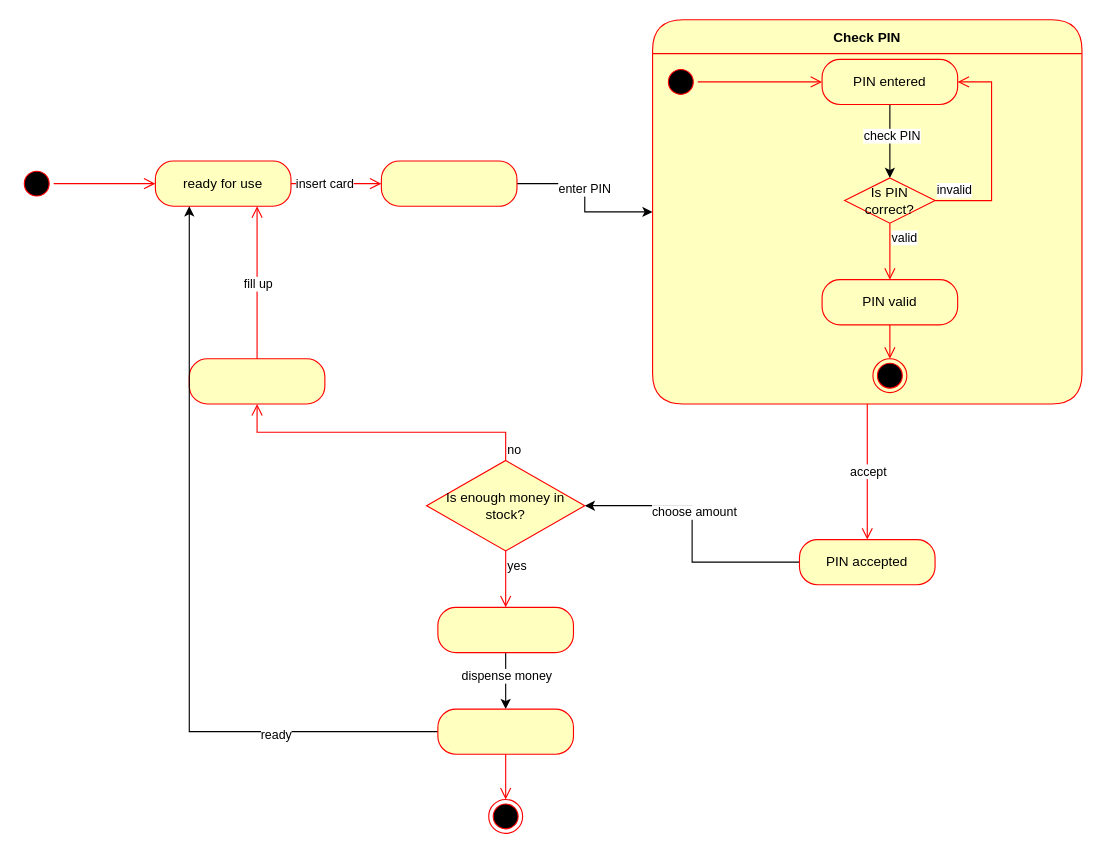
Some shapes in this 1102 by 853 pixel diagram are drawn without their labels. Here are the shapes that lost their labels. From the top down, the centre of each, then its label:
At [448,183]: "card inserted".
At [256,381]: "ATM empty".
At [505,629]: "ATM stocked".
At [505,731]: "Money withdrawn".
